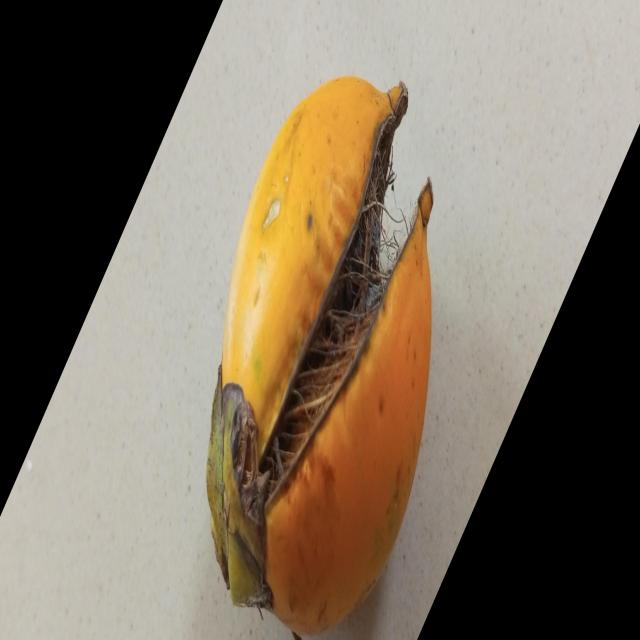damaged: (206, 77, 434, 635)
